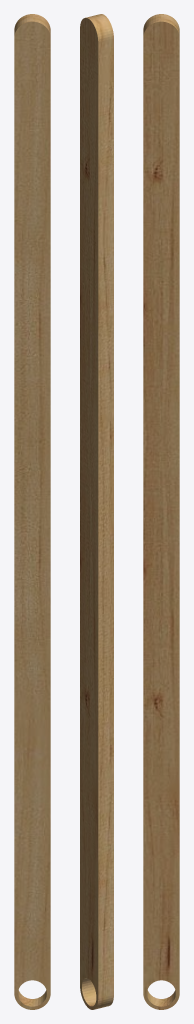
The model's file is rod_v1.glb.
3 renders of one model, left to right at view 1: azimuth 90°, elevation 25°; view 2: azimuth 210°, elevation 25°; view 3: azimuth 270°, elevation 25°, orthographic.
Visible parts, largest first — view 1: Cube; view 2: Cube; view 3: Cube.
Boxes of the visible parts, bbox=[...] form: Cube: bbox=[14, 14, 50, 1009]; Cube: bbox=[80, 14, 113, 1009]; Cube: bbox=[143, 14, 179, 1009].
Bounding box in the file's own units: 0.005 × 0.3 × 0.01.
1 material, 1 textured.
